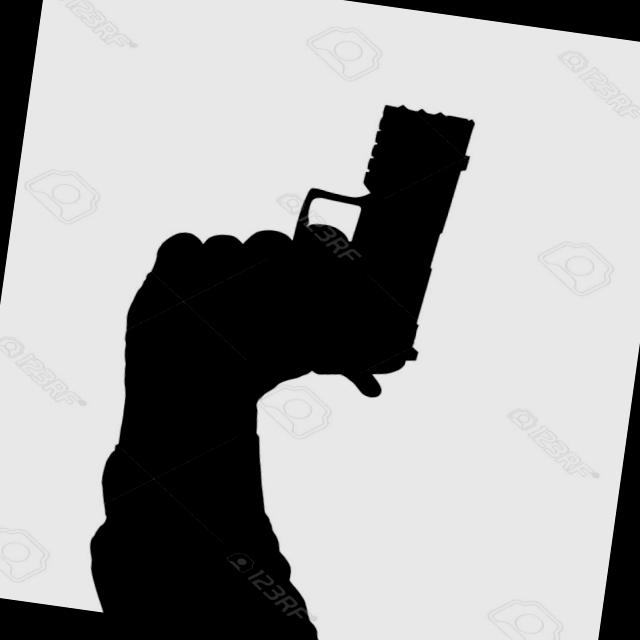handgun: (140, 77, 483, 408)
